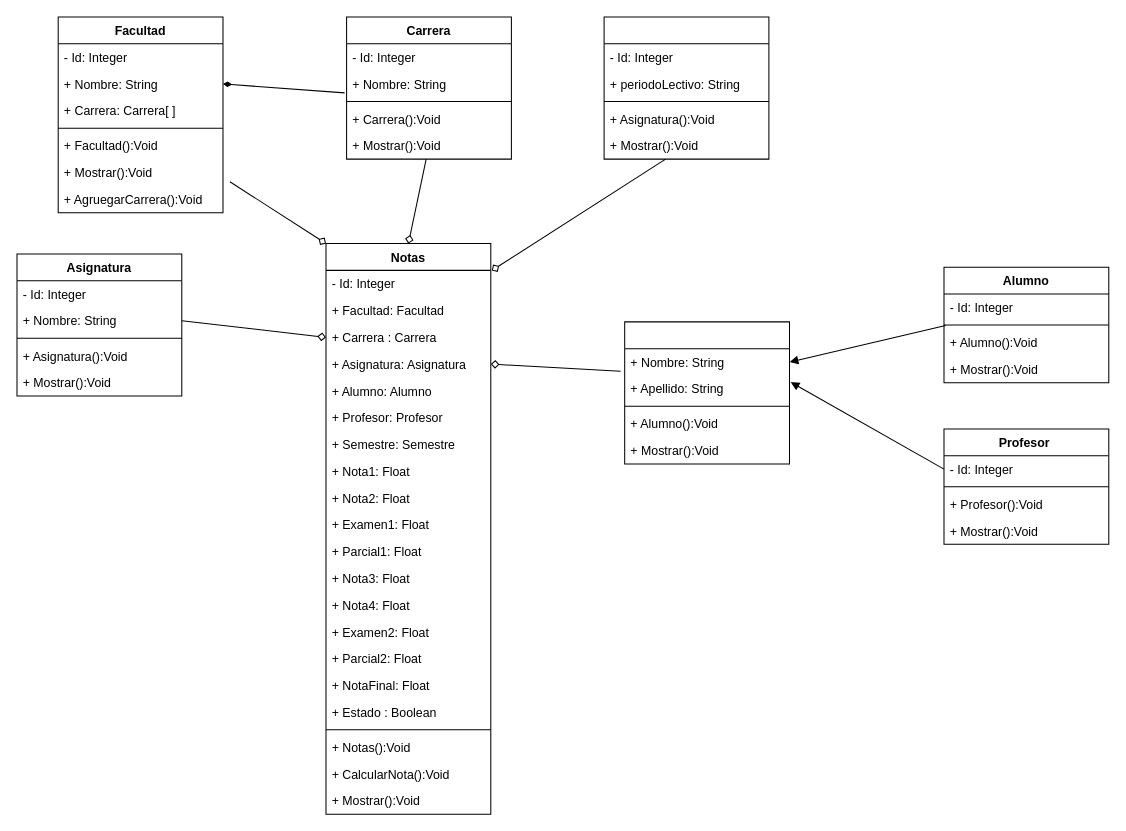
This 1126x831 diagram has some shape labels left out. The box of each missing label's shape, as (x1, y1, x2, y2) in pixels:
Persona: (624, 321, 789, 464)
Semestre: (603, 16, 769, 159)
